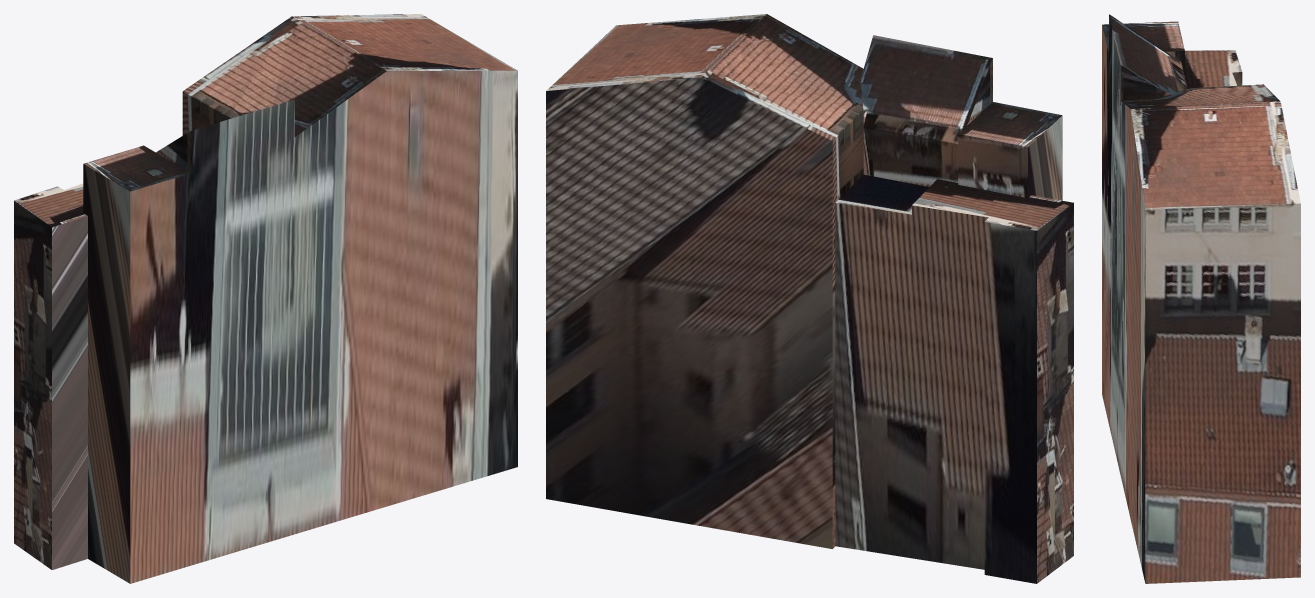
3 renders of one model, left to right at view 1: azimuth 30°, elevation 25°; view 2: azimuth 150°, elevation 25°; view 3: azimuth 270°, elevation 25°, orthographic. The views are drawn at different scales.
Visible parts, largest first — view 1: Z_UP; view 2: Z_UP; view 3: Z_UP.
Boxes of the visible parts, x1=… form: Z_UP: x1=14, y1=14, x2=517, y2=583; Z_UP: x1=546, y1=14, x2=1073, y2=583; Z_UP: x1=1102, y1=14, x2=1300, y2=583.
Size of the model in its own units: 22.22 by 20.29 by 8.88.
Materials: 2 (1 with a texture image).
